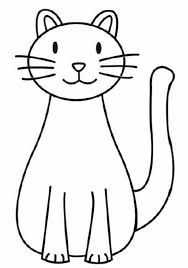cat: (11, 5, 182, 268)
